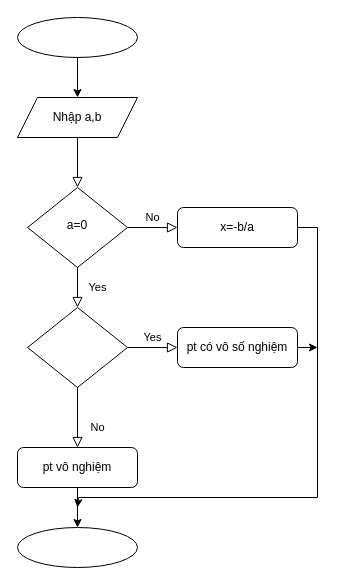
This 343x585 diagram has some shape labels left out. The shapes that lost their labels are listed below. From the top down, each one's box as (x1, y1, x2, y2) in pixels, then its label:
(16, 16, 138, 58): start
(26, 306, 128, 388): b=0
(16, 526, 138, 568): end
